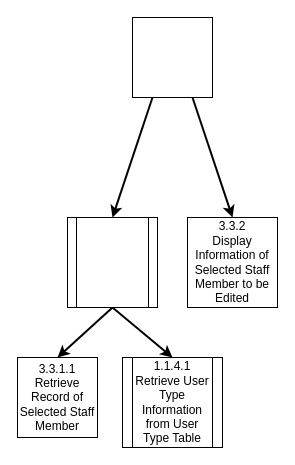
This 295x465 diagram has some shape labels left out. The shapes that lost their labels are listed below. From the top down, each one's box as (x1, y1, x2, y2) in pixels, then its label:
(132, 16, 212, 98): 3.3 Retrieve Staff Information
(66, 216, 158, 308): 1.1.4 Get Required Information from Database
